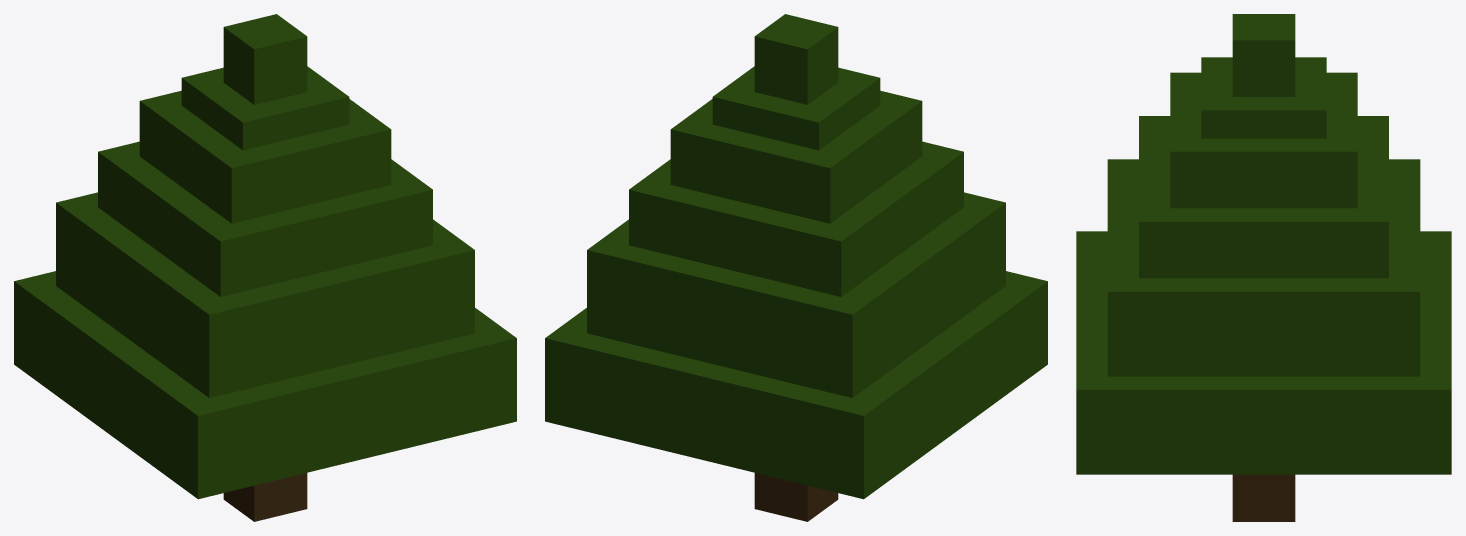
Rendered from Tree1.obj.
The picture shows the model from 3 angles, left to right: view 1: azimuth 30°, elevation 25°; view 2: azimuth 150°, elevation 25°; view 3: azimuth 270°, elevation 25°; orthographic projection.
Parts seen in each view (by area): view 1: Tree1; view 2: Tree1; view 3: Tree1.
Boxes of the visible parts, x1,y1,x2,y2 form: Tree1: (14, 14, 516, 521); Tree1: (545, 14, 1047, 521); Tree1: (1076, 14, 1451, 521).
Size of the model in its own units: 12 by 17 by 12.
1 material, 1 textured.
